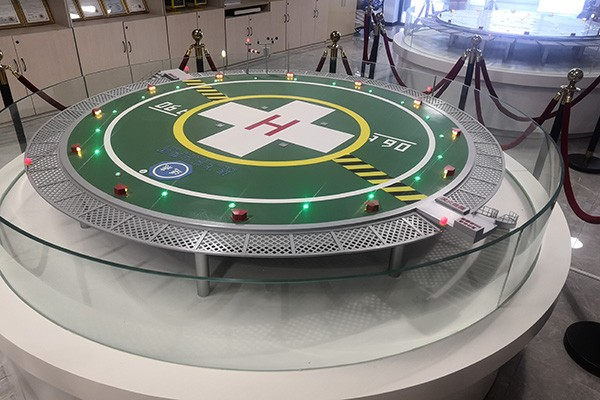H: (245, 114, 302, 138)
